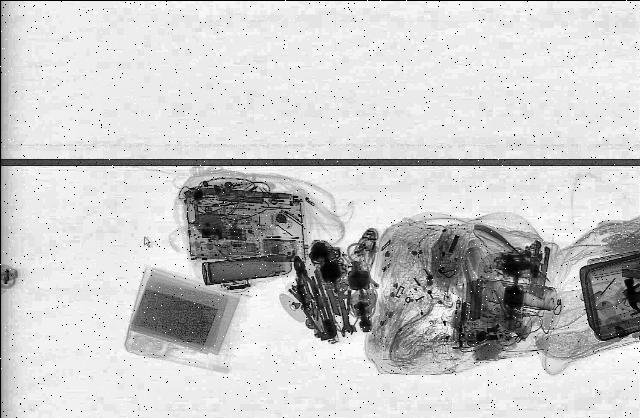Pliers: (282, 253, 326, 309)
